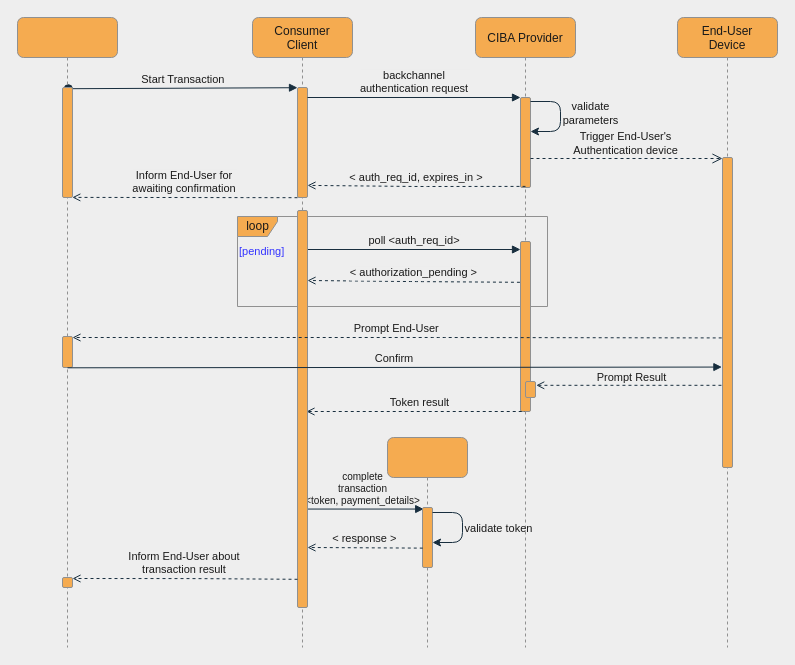
The diagram is 795 pixels wide and 665 high, and some of its shapes have lost their labels. Each missing label, with the centre of its shape:
"Bank" goes at pixel 427 542.
"End-User" goes at pixel 67 332.
